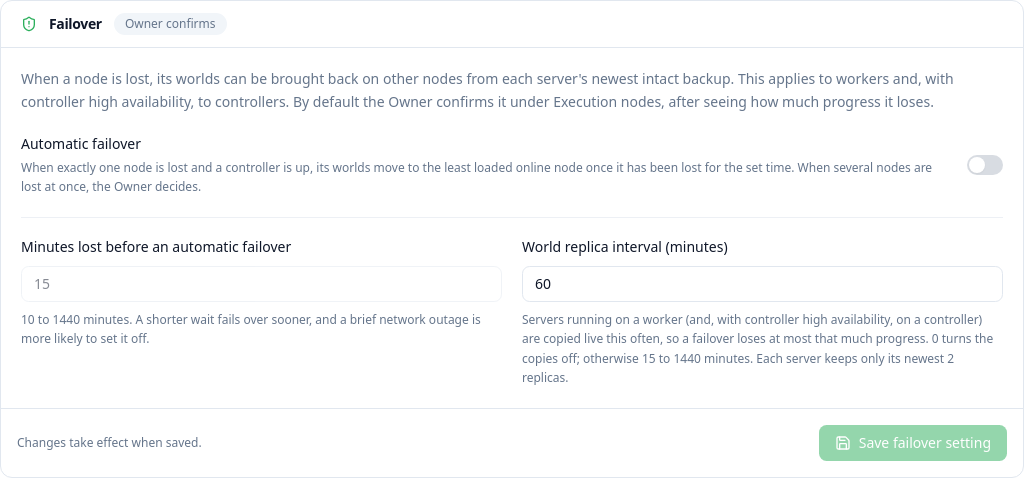
Scenario: failover setting › starts with the Owner confirming, and the wait only applies once automatic failover is on
Check: the number field labelled "World replica interval (minutes)" holds "60", box [522,266,1003,302]
Check: the text "Owner confirms" is shown, box [114,13,227,35]
Click the switch named "Automatic failover".
click(985, 165)  # box [967,155,1003,175]
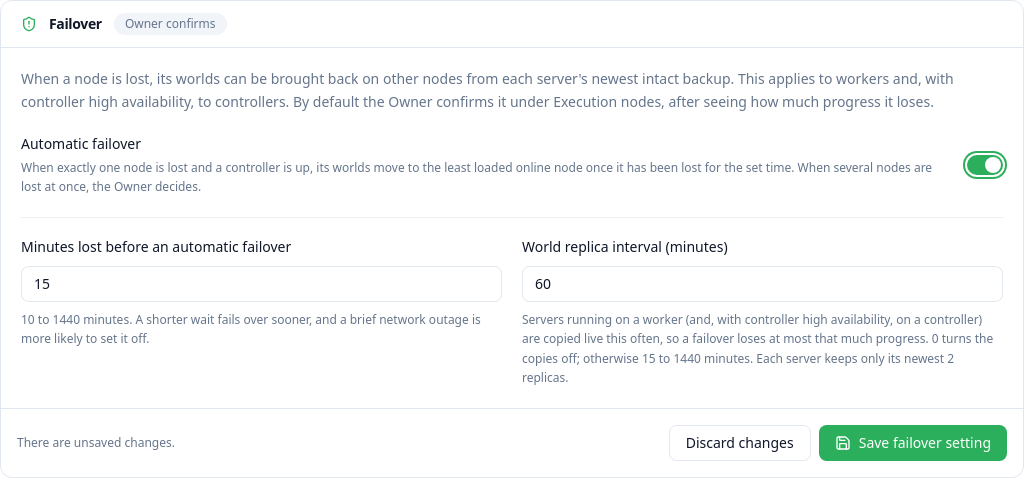
Check: the number field labelled "Minutes lost before an automatic failover" is enabled, box [21,266,502,302]
Check: the button "Save failover setting" is enabled, box [819,424,1007,460]
